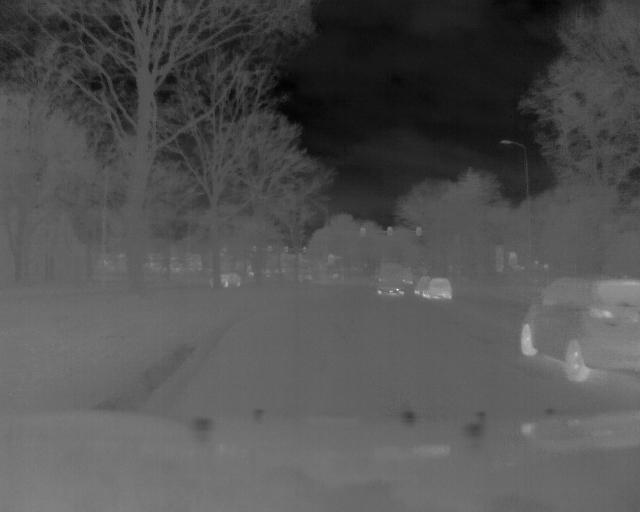car: (518, 269, 640, 384), (424, 278, 454, 302)
